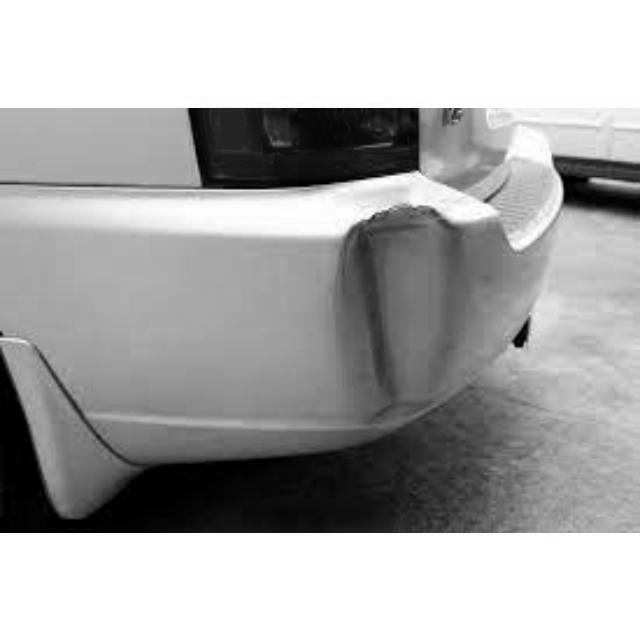rear-bumper-dent: (140, 184, 575, 472)
